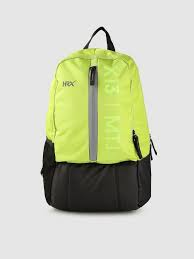backpack: (40, 26, 157, 211)
